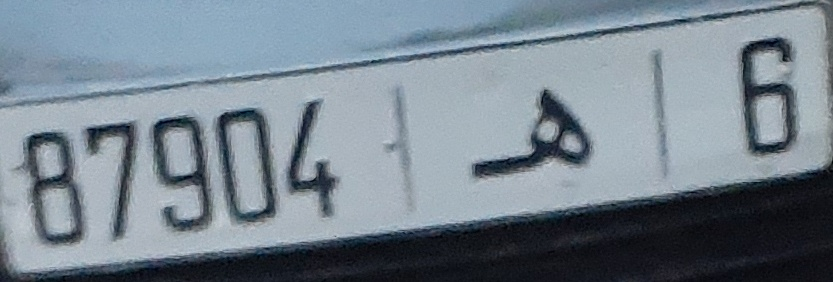0: (214, 108, 277, 228)
4: (283, 97, 348, 223)
6: (738, 32, 801, 159)
7: (83, 117, 142, 246)
8: (22, 124, 84, 254)
9: (148, 113, 211, 237)
h: (466, 85, 601, 185)
